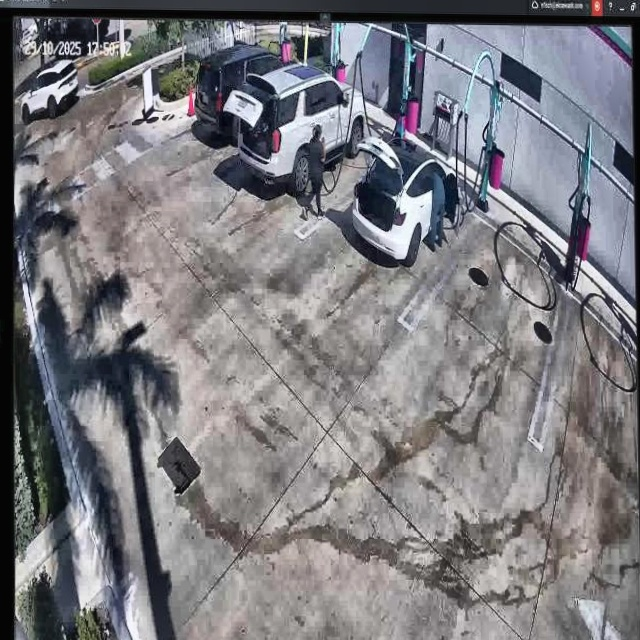Car: (234, 70, 365, 188), (352, 131, 461, 259), (195, 49, 302, 157)
